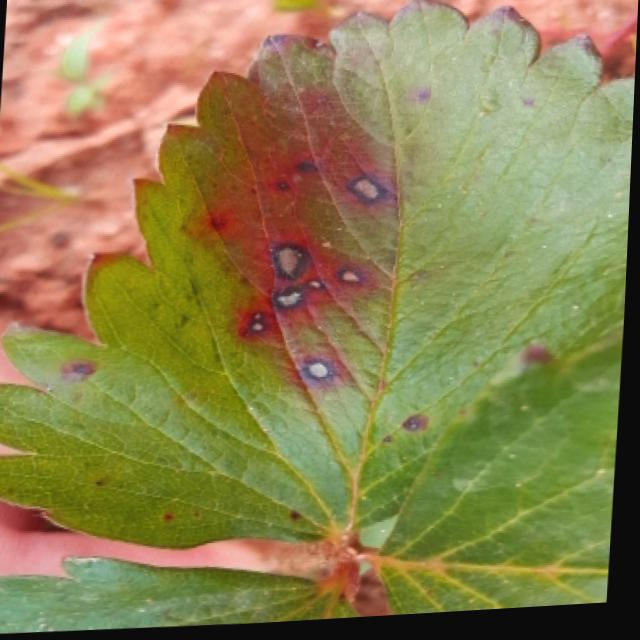Leaf Spot: (0, 1, 636, 556), (371, 337, 626, 620)
